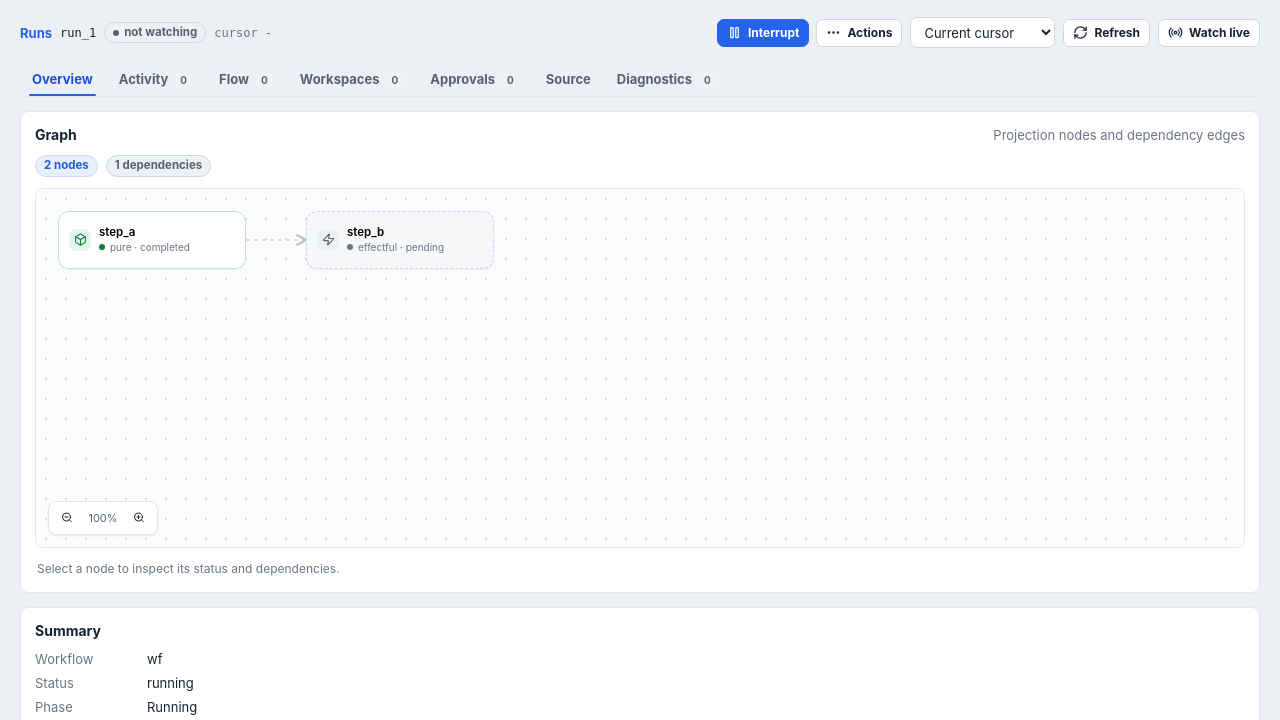
Test case: RunDetailScreen › starts live watch from the detail cursor and renders coalesced live text
The width and height of the screenshot is (1280, 720).
What coordinates should you click on to do the following:
click the button "Watch live"
I would click on:
 (1209, 32)
Its box is [1158, 18, 1260, 46].
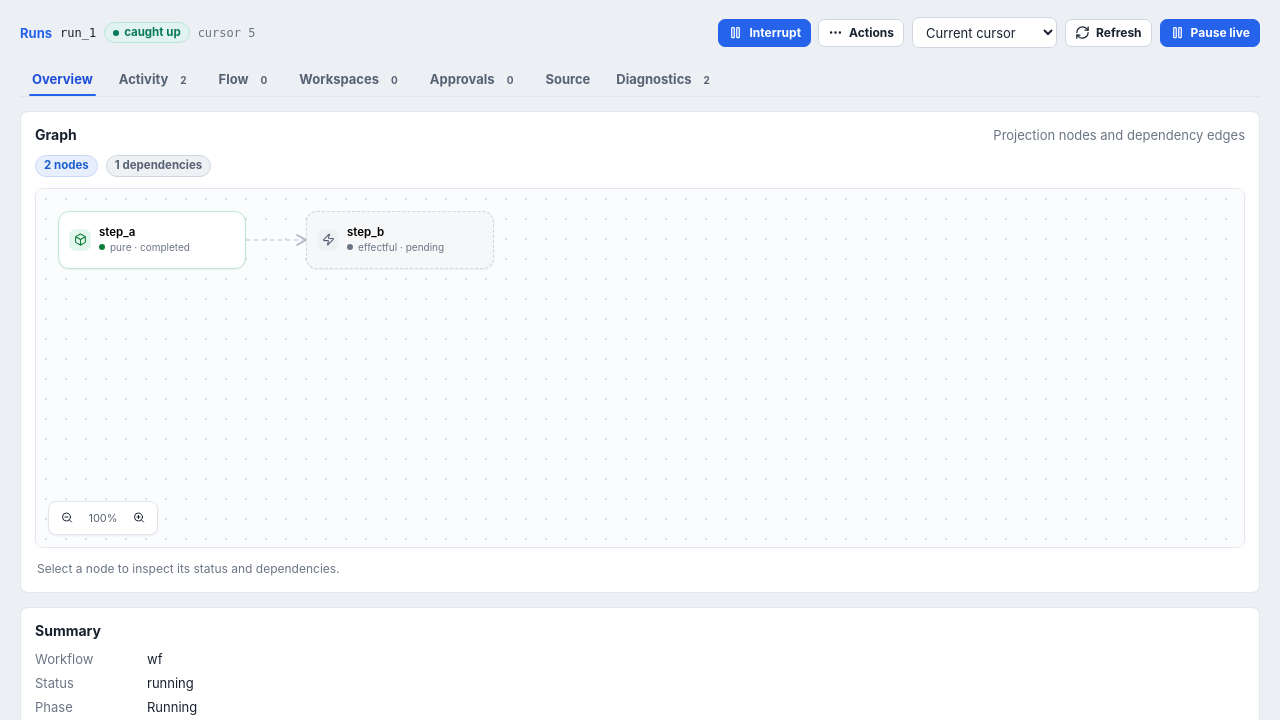
What coordinates should you click on to do the following:
click the tab "Activity2"
I would click on:
 (156, 79)
Its box is [107, 62, 205, 96].
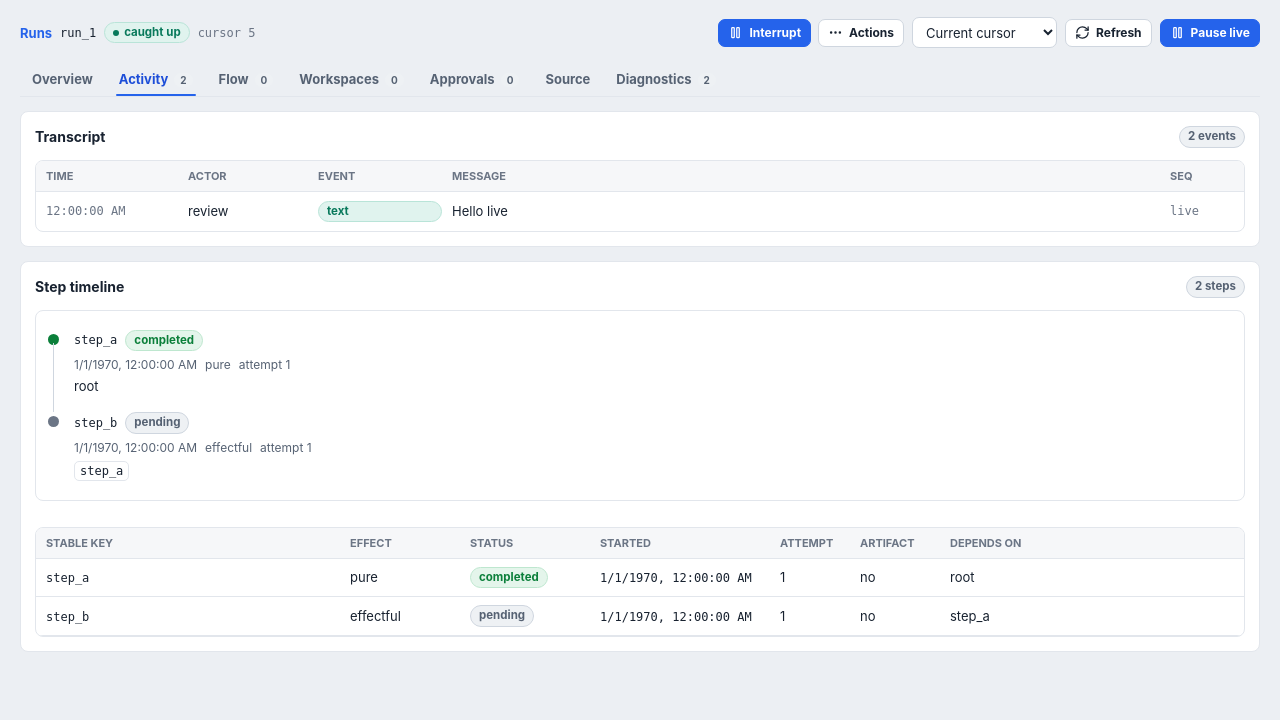
Result: the text "caught up" is shown at [104, 22, 190, 43]
Result: the text "Hello live" is shown at [452, 203, 508, 219]
